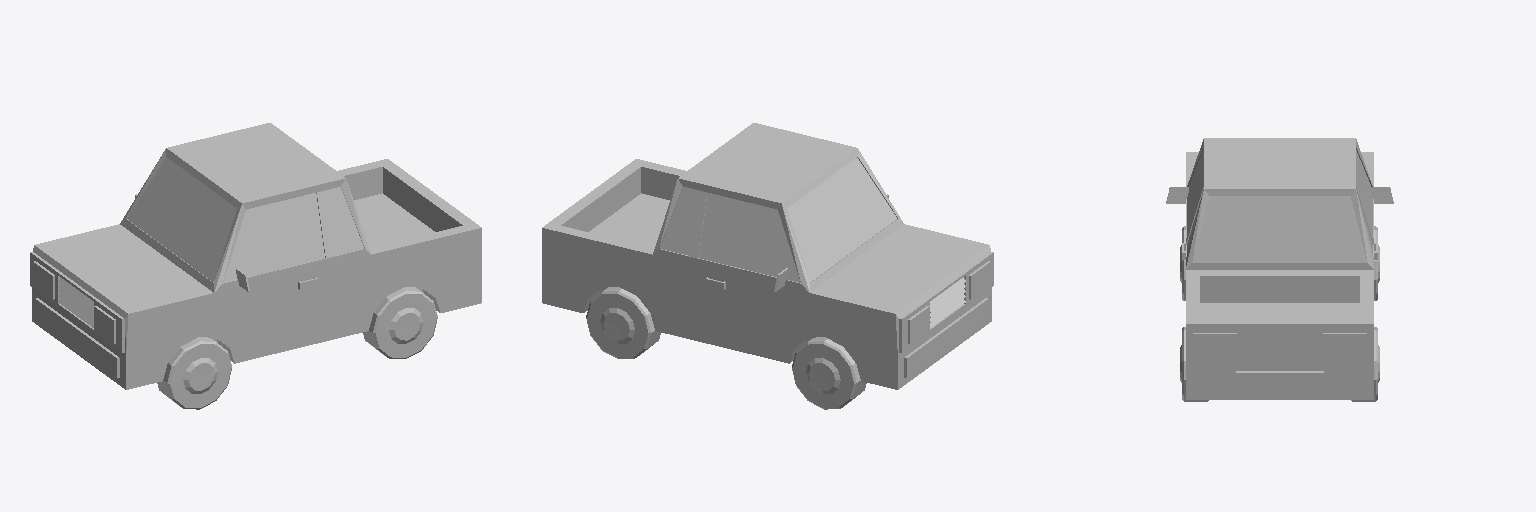
Rendered from carro1.obj.
3 views of the same model, side by side, from view 1: azimuth 30°, elevation 25°; view 2: azimuth 150°, elevation 25°; view 3: azimuth 270°, elevation 25° (orthographic).
Visible parts, largest first — view 1: polySurface5; view 2: polySurface5; view 3: polySurface5.
Part boxes in pixels (bbox=[...]): polySurface5: bbox=[30, 123, 481, 409]; polySurface5: bbox=[542, 123, 993, 409]; polySurface5: bbox=[1166, 138, 1393, 401].
Size of the model in its own units: 3.35 by 1.63 by 1.81.